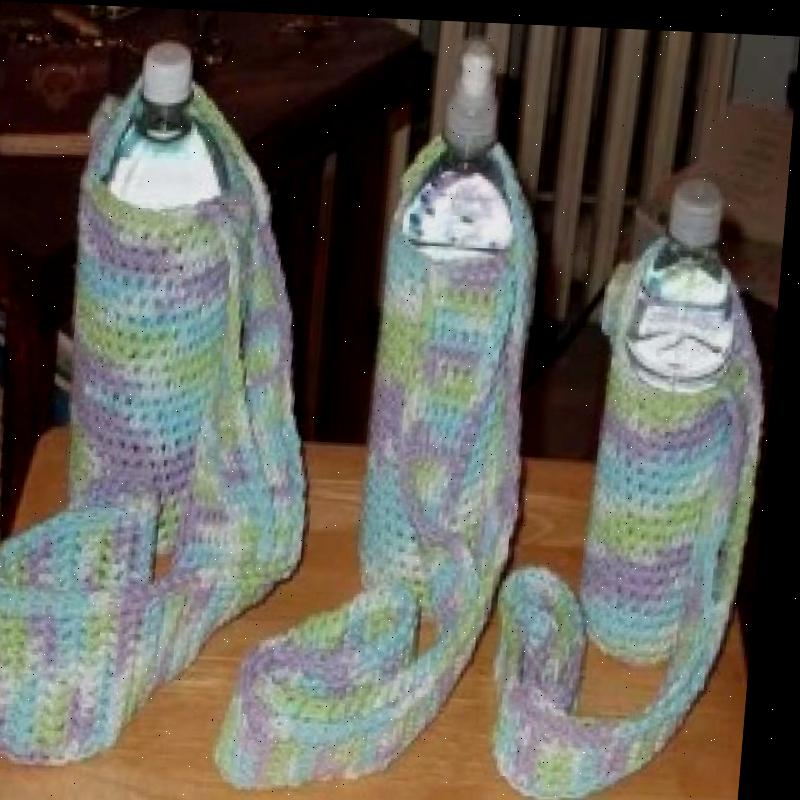botella: (394, 39, 537, 254), (625, 170, 758, 390), (96, 38, 245, 209)
